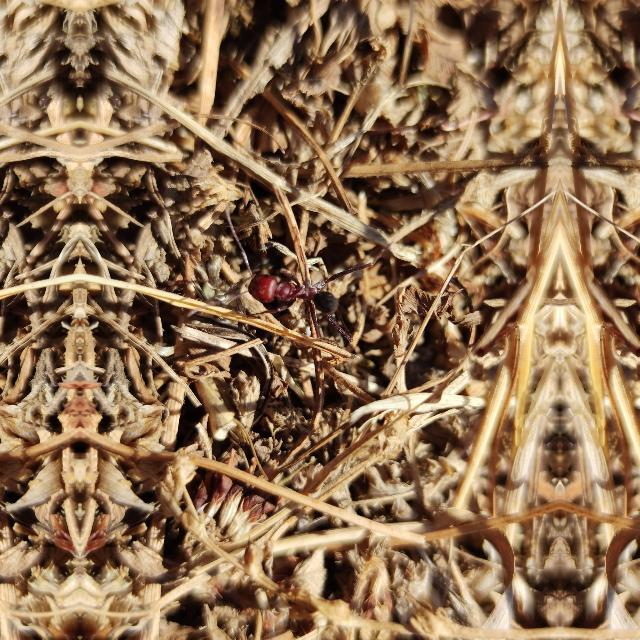Cataglyphis: (244, 252, 344, 332)
